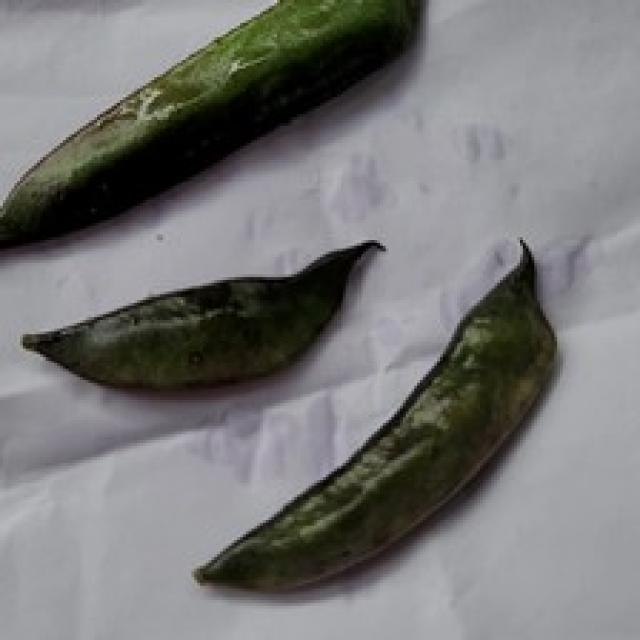Bean: (192, 234, 557, 592), (0, 0, 426, 257), (20, 237, 386, 392)
